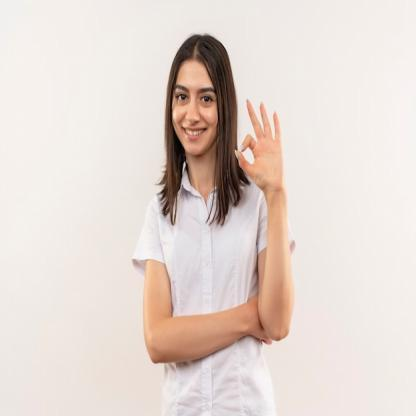ok: (232, 96, 284, 192)
